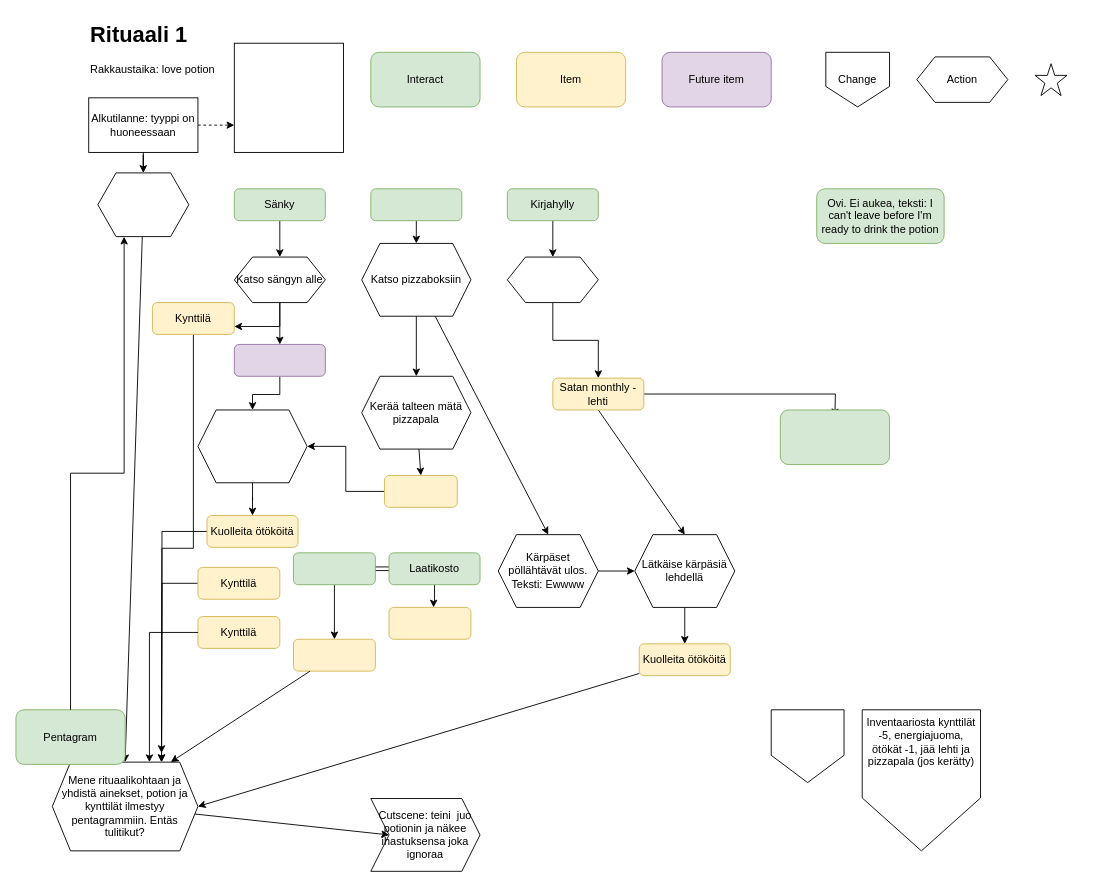
Image size: 1106x887. Some labels were removed from this diagram. The box of each missing label's shape, as (x1, y1, x2, y2) in pixels:
Energiajuoma: (293, 638, 375, 671)
Etsi puuttuva asia. Älä poistu huoneesta: (97, 172, 189, 237)
Inventaario: Kynttilä x 2 Tarvitaan: Kärpäsiä Energiajuomaa Kynttilöitä: (233, 42, 344, 152)
Katso kirjahyllyn päälle: (506, 256, 598, 303)
Laita pala sängyn alle. Torakat saa kiinni. Pizza pala häviää.: (197, 409, 307, 483)
Notebook/sataniv monthly ilmestyy: (779, 409, 890, 465)
Ovi aukeaa: (770, 709, 844, 783)
Pizzaboksi: (370, 188, 462, 221)
Pizzapala: (384, 475, 457, 507)
Pöytä: (293, 552, 375, 585)
Task completion: (1034, 63, 1067, 96)
Torakoita: (233, 344, 325, 376)
Tulitikut: (388, 607, 471, 639)
